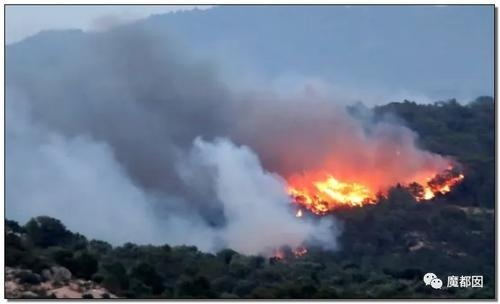fire: (288, 161, 462, 210), (286, 172, 381, 214), (271, 243, 310, 259)
